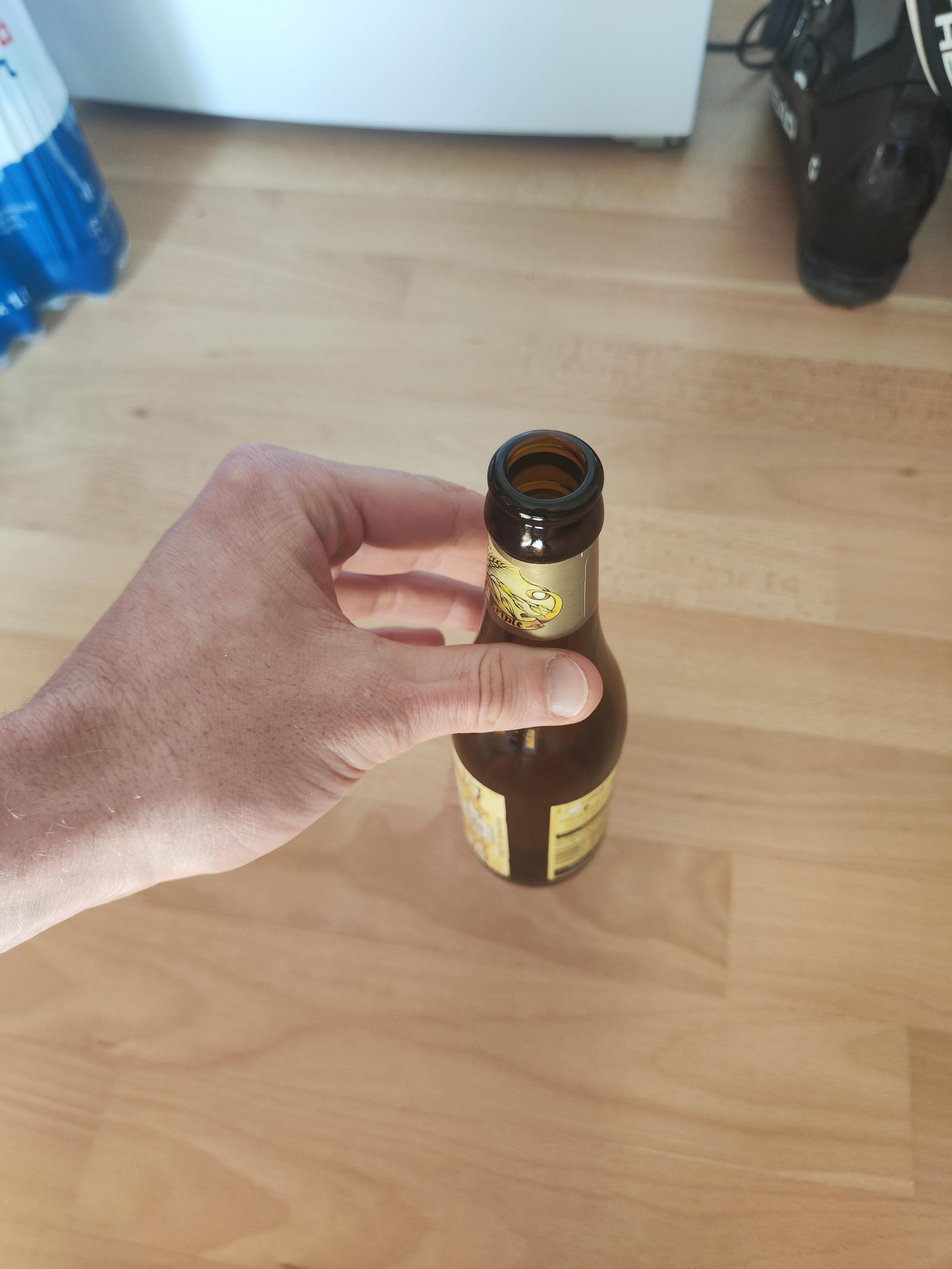Glass: (449, 426, 634, 896)
